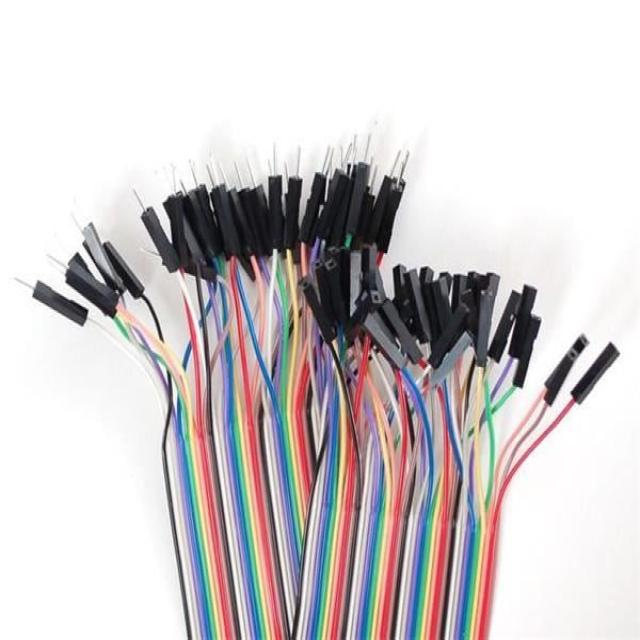Jumper Wires: (8, 107, 632, 640)
